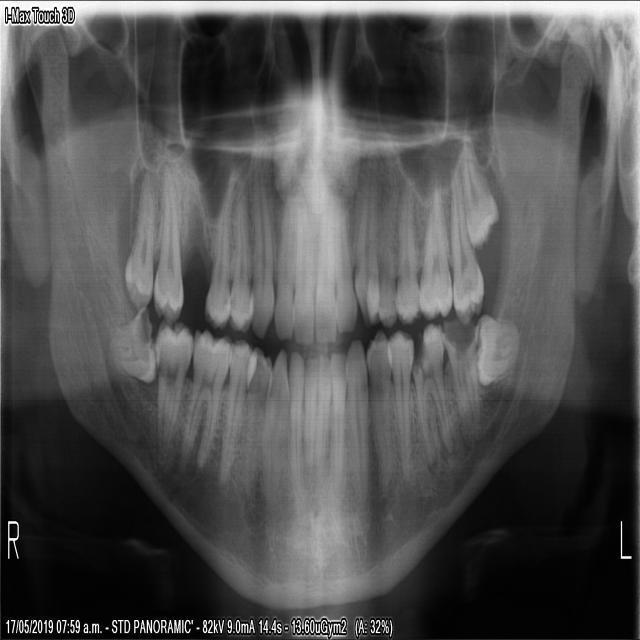LCD: (342, 334, 369, 506)
LCU: (351, 169, 380, 329)
LID: (327, 344, 347, 486), (313, 348, 331, 480)
LIU: (331, 187, 358, 340), (312, 195, 336, 349)
LMD: (407, 317, 456, 471), (436, 313, 483, 439), (471, 307, 519, 394)
LMU: (447, 155, 487, 327), (454, 126, 501, 253), (416, 169, 453, 318)
LPMD: (361, 325, 395, 501), (382, 321, 414, 484)
LPMU: (366, 168, 399, 325), (394, 174, 420, 325)
RCD: (260, 340, 291, 506)
RCU: (246, 166, 276, 344)
RID: (286, 342, 305, 507), (298, 347, 319, 486)
RIU: (291, 198, 314, 351), (271, 195, 294, 342)
RMD: (176, 320, 232, 483), (152, 313, 193, 478), (100, 303, 156, 386)
RMU: (151, 154, 185, 325), (118, 160, 155, 310)
RPMD: (212, 336, 257, 497), (239, 343, 272, 499)
RPMU: (201, 171, 240, 332), (227, 186, 253, 334)
